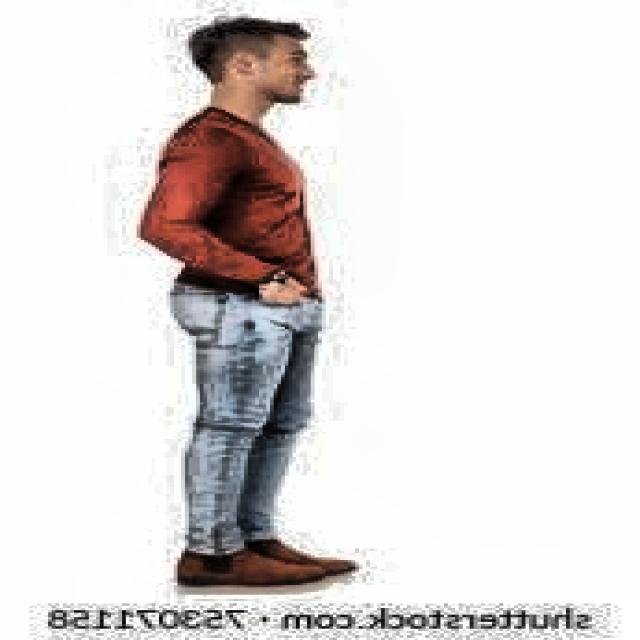Human: (146, 18, 393, 611)
